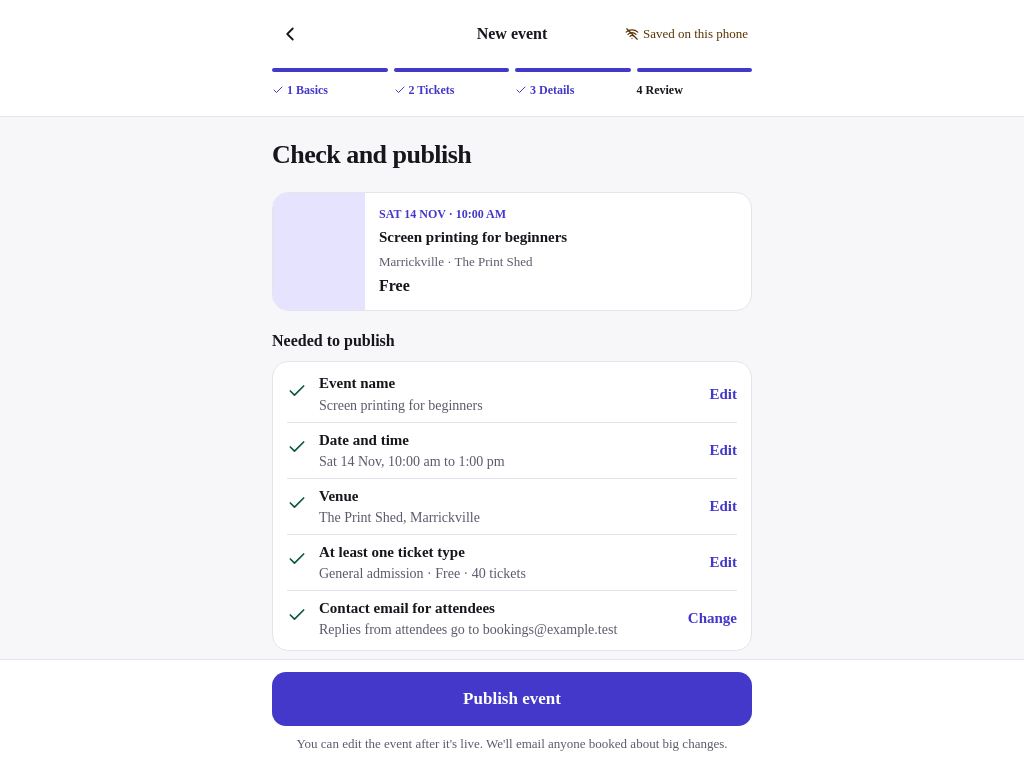
Scenario: create-event wizard › review and publish › shows what the api says is missing
The image size is (1024, 768).
Click the button "Publish event" at (512, 700), box [272,672,752,726]
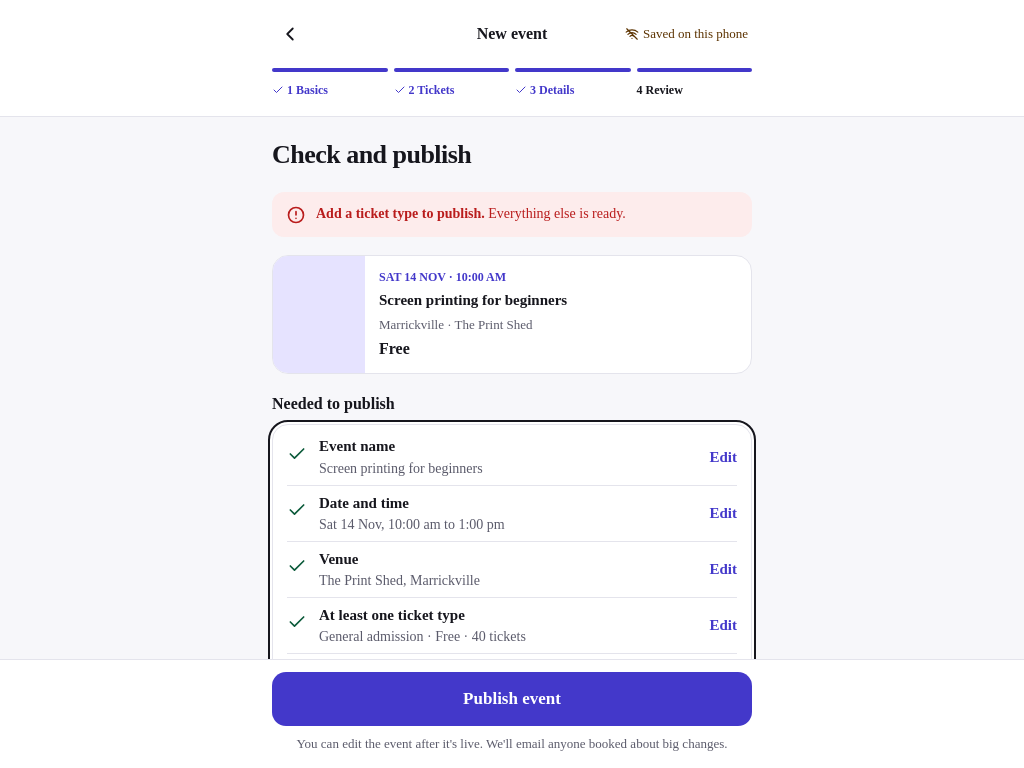
expect the message "Add a ticket type to publish. Everything else is ready." is shown: met, box [272,192,752,237]
